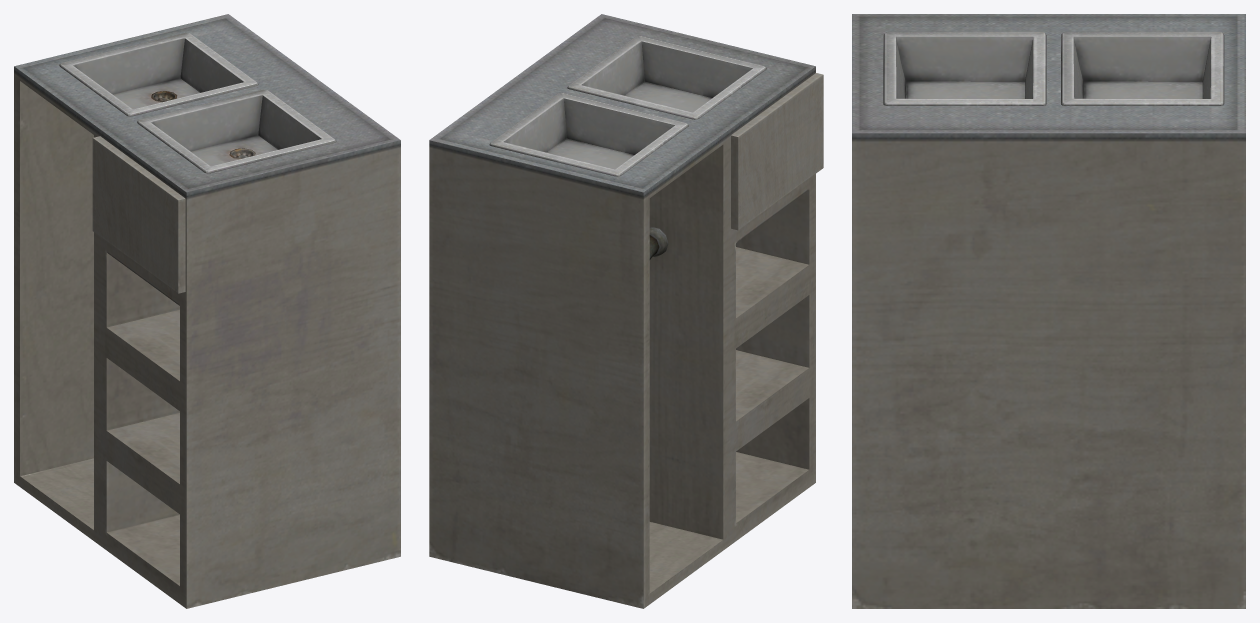
The model's file is sink_kitchen.dae.
3 renders of one model, left to right at view 1: azimuth 30°, elevation 25°; view 2: azimuth 150°, elevation 25°; view 3: azimuth 270°, elevation 25°, orthographic. The views are drawn at different scales.
Visible parts, largest first — view 1: sink_kitchen; view 2: sink_kitchen; view 3: sink_kitchen.
Part boxes in pixels (x1,y1,x2,y2): sink_kitchen: (14,14,400,608); sink_kitchen: (429,14,823,608); sink_kitchen: (852,14,1245,608).
Bounding box in the file's own units: 50.29 × 90.34 × 67.55.
